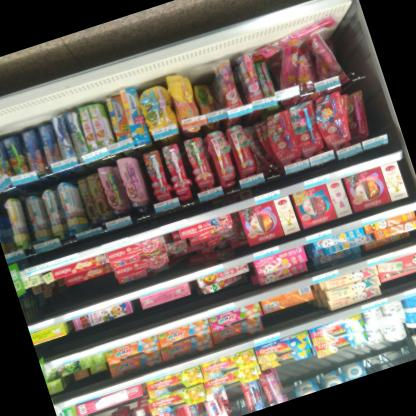empty_space: (333, 21, 368, 84), (363, 335, 413, 374), (224, 384, 247, 416)
